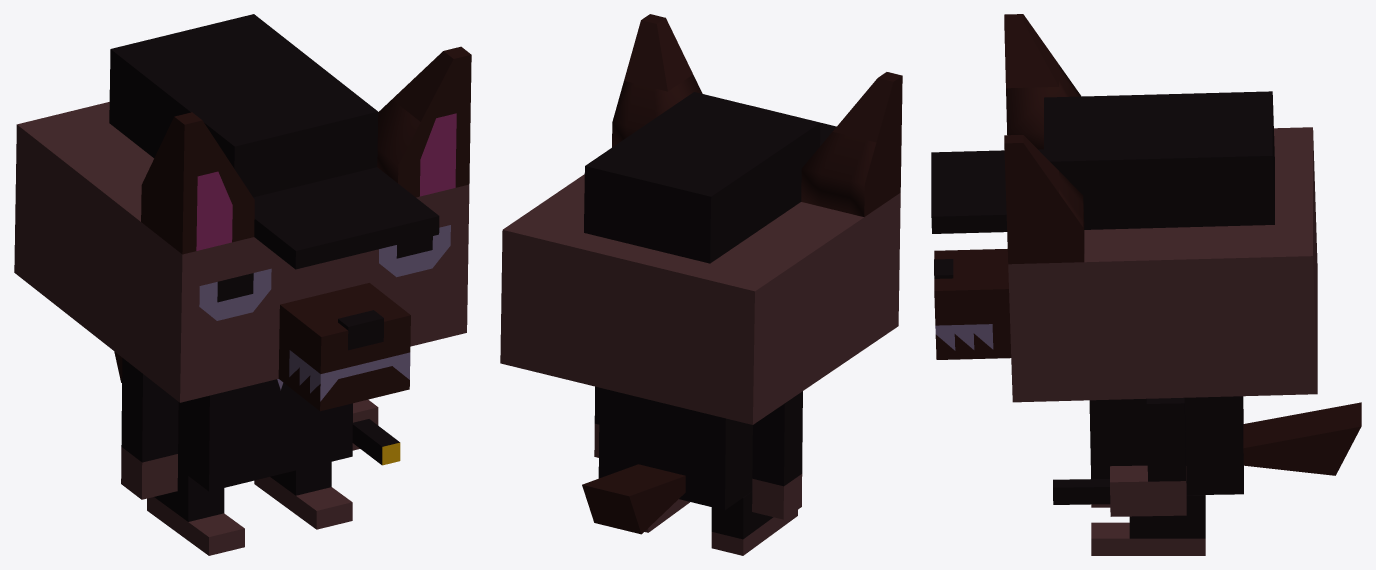
Rendered from guardDog_patrol.glb.
The picture shows the model from 3 angles, left to right: view 1: azimuth 30°, elevation 25°; view 2: azimuth 150°, elevation 25°; view 3: azimuth 270°, elevation 25°; orthographic projection. The views are drawn at different scales.
Visible parts, largest first — view 1: guardDogPatrol_head_MSH, guardDogPatrol_body_MSH, guardDogPatrol_R_arm_MSH, guardDogPatrol_R_leg_MSH, guardDogPatrol_L_leg_MSH, guardDogPatrol_L_arm_MSH; view 2: guardDogPatrol_head_MSH, guardDogPatrol_body_MSH, guardDogPatrol_R_arm_MSH, guardDogPatrol_tail_MSH, guardDogPatrol_R_leg_MSH; view 3: guardDogPatrol_head_MSH, guardDogPatrol_body_MSH, guardDogPatrol_L_arm_MSH, guardDogPatrol_tail_MSH, guardDogPatrol_L_leg_MSH.
Part boxes in pixels (box(x1,y1,x2,y2)): guardDogPatrol_head_MSH: box(14, 14, 471, 411); guardDogPatrol_body_MSH: box(178, 379, 352, 491); guardDogPatrol_R_arm_MSH: box(121, 358, 178, 499); guardDogPatrol_R_leg_MSH: box(147, 468, 244, 555); guardDogPatrol_L_leg_MSH: box(254, 462, 352, 529); guardDogPatrol_L_arm_MSH: box(352, 399, 400, 465); guardDogPatrol_head_MSH: box(500, 14, 902, 424); guardDogPatrol_body_MSH: box(598, 388, 752, 510); guardDogPatrol_R_arm_MSH: box(752, 391, 802, 519); guardDogPatrol_tail_MSH: box(582, 464, 685, 534); guardDogPatrol_R_leg_MSH: box(711, 491, 797, 555); guardDogPatrol_head_MSH: box(931, 14, 1317, 402); guardDogPatrol_body_MSH: box(1089, 396, 1243, 495); guardDogPatrol_L_arm_MSH: box(1053, 397, 1186, 516); guardDogPatrol_tail_MSH: box(1243, 402, 1361, 475); guardDogPatrol_L_leg_MSH: box(1091, 495, 1205, 555).
Bounding box in the file's own units: 0.667 × 1.07 × 0.9406.
